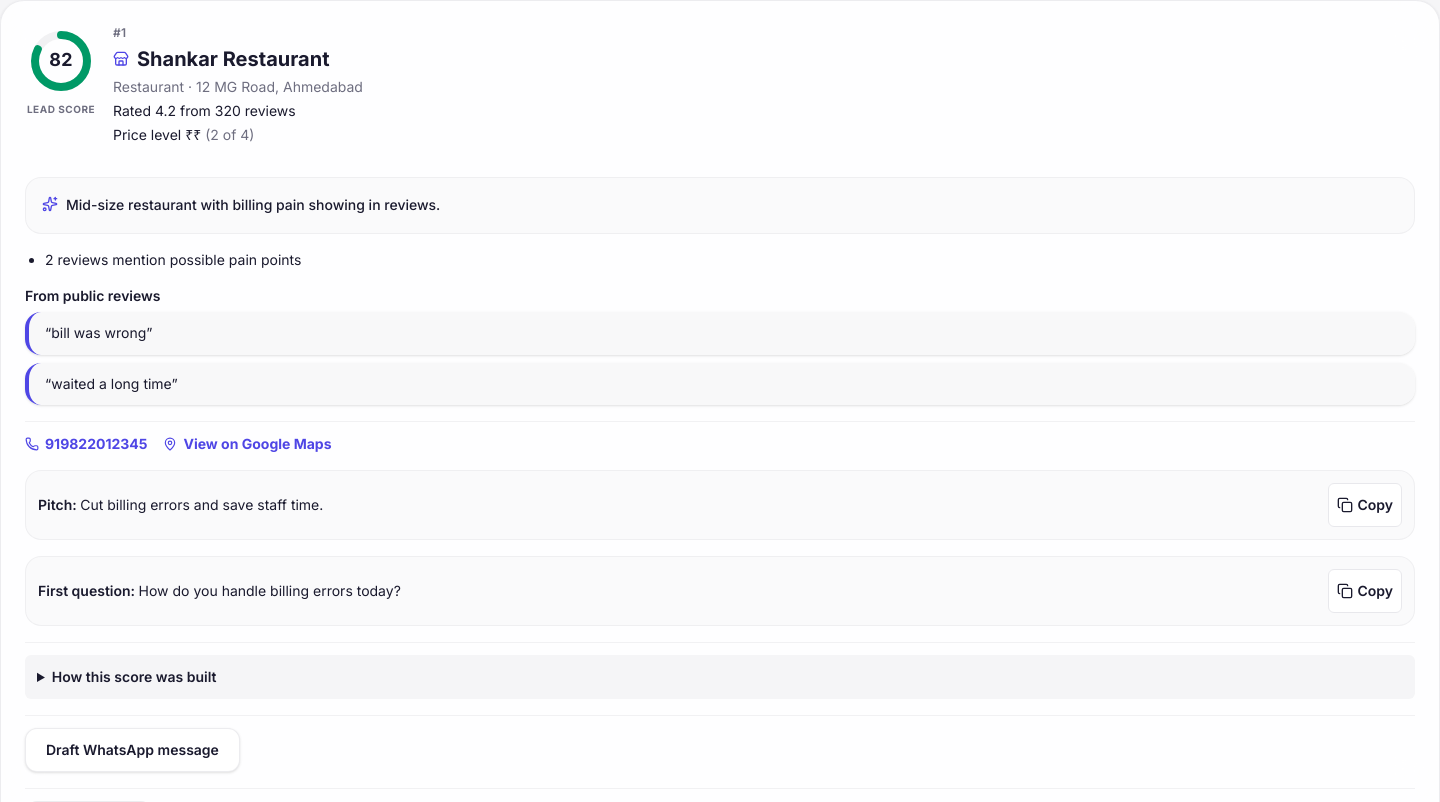
LeadCard outreach flow › drafts with product summary, keeps the opt-out, never sends the phone
The width and height of the screenshot is (1440, 802).
Click the button "Draft WhatsApp message". click: x=132, y=750
box: [25,728,240,772]
(page scrolled)
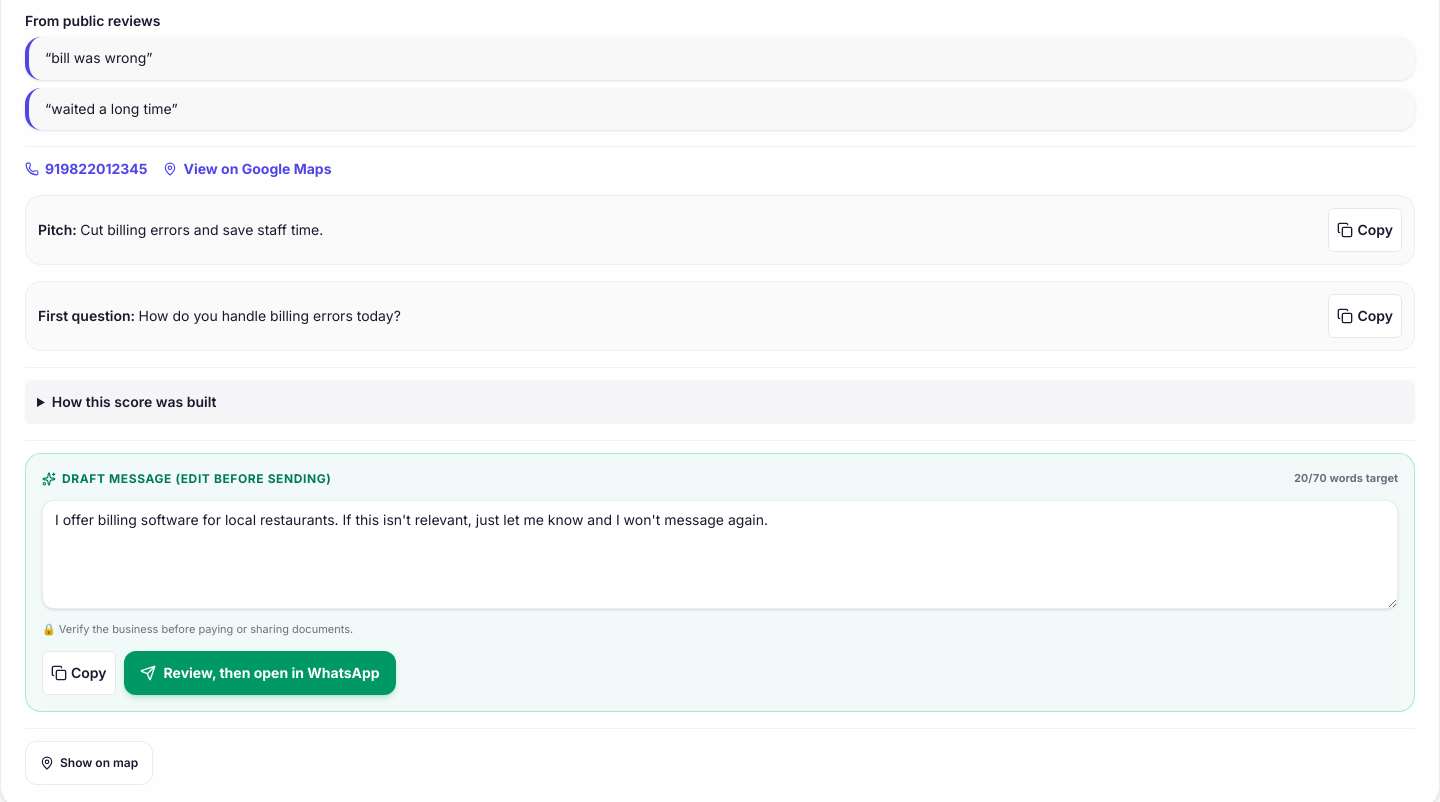
Expected: the text "🔒 Verify the business before paying or sharing documents." is shown, [42,622,353,636]
